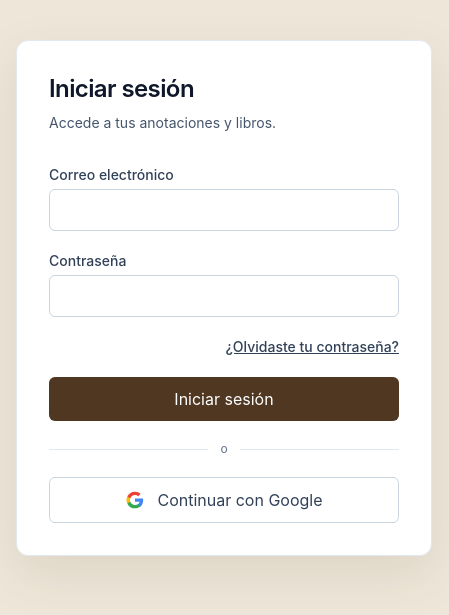
Test: LoginPage › shows validation errors before submitting invalid credentials
What coordinates should you click on to do the following:
click the button "Iniciar sesión"
I would click on:
 (224, 399)
Its box is left=49, top=377, right=399, bottom=421.
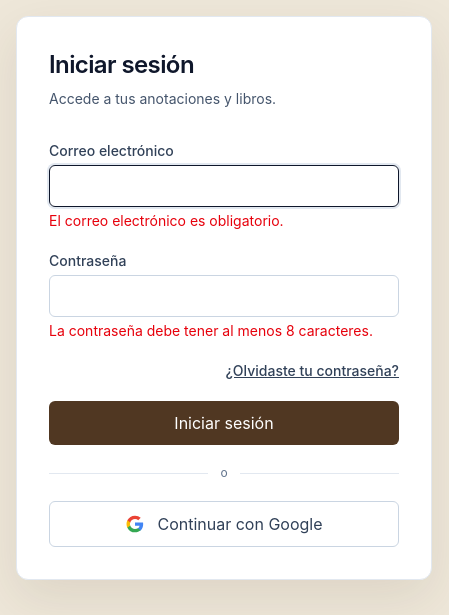
Now the text "El correo electrónico es obligatorio." is shown, box left=49, top=212, right=284, bottom=229
Now the text "La contraseña debe tener al menos 8 caracteres." is shown, box left=49, top=321, right=399, bottom=341
